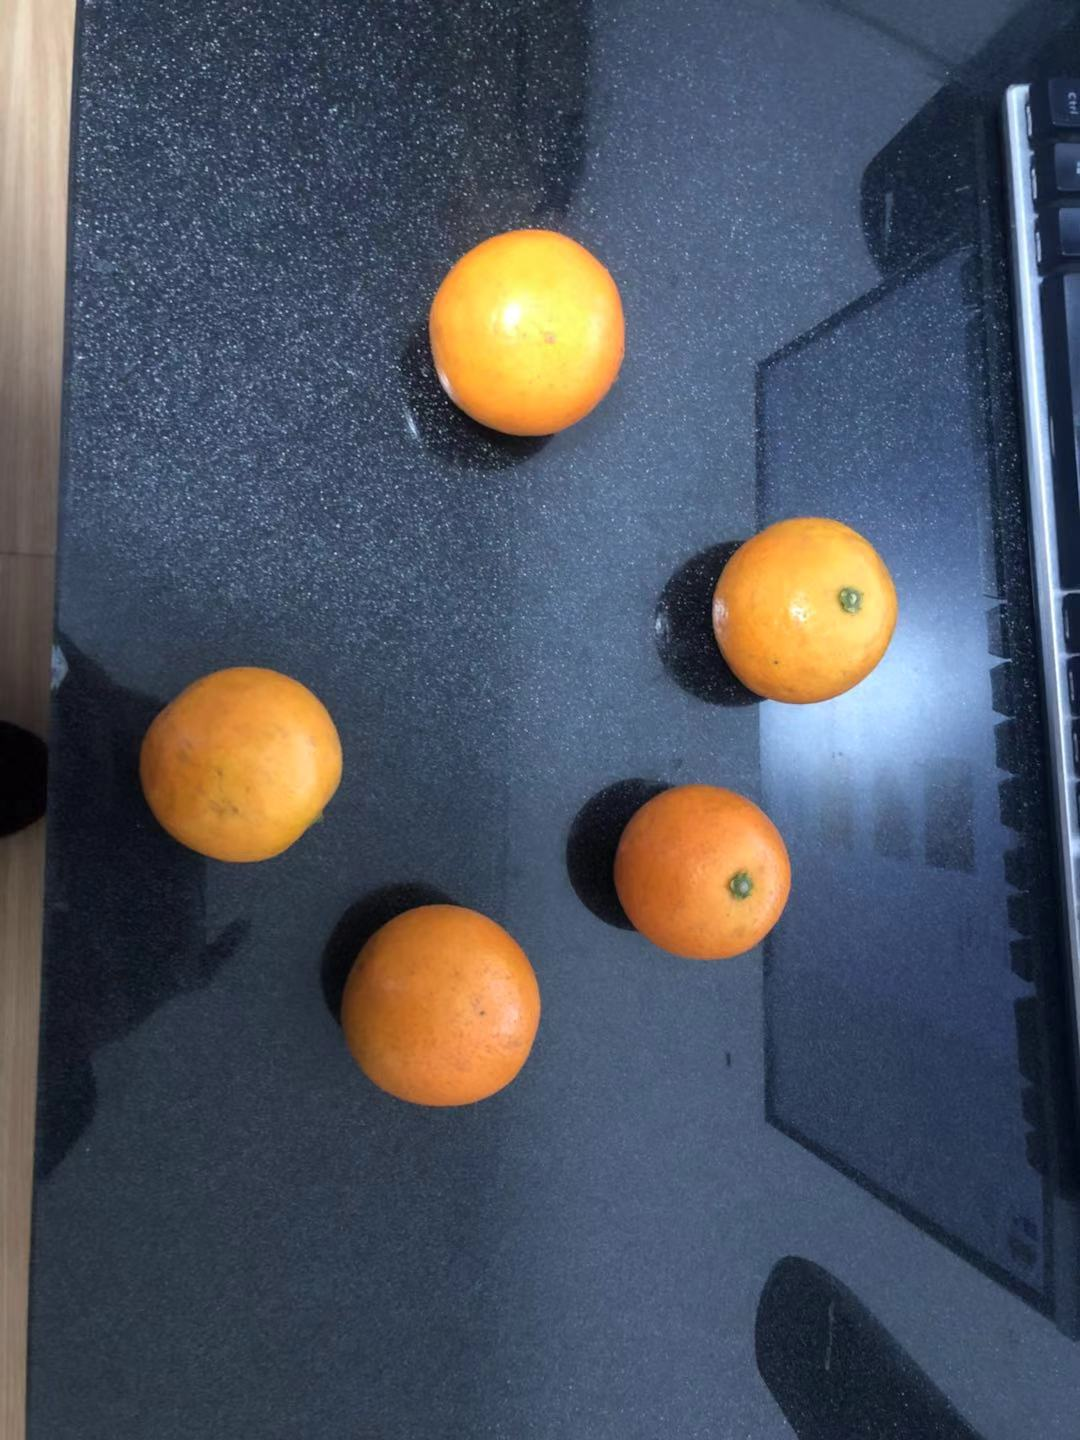goods: (428, 227, 623, 438), (341, 904, 542, 1108), (141, 664, 341, 866), (711, 515, 898, 708), (611, 785, 788, 962)
